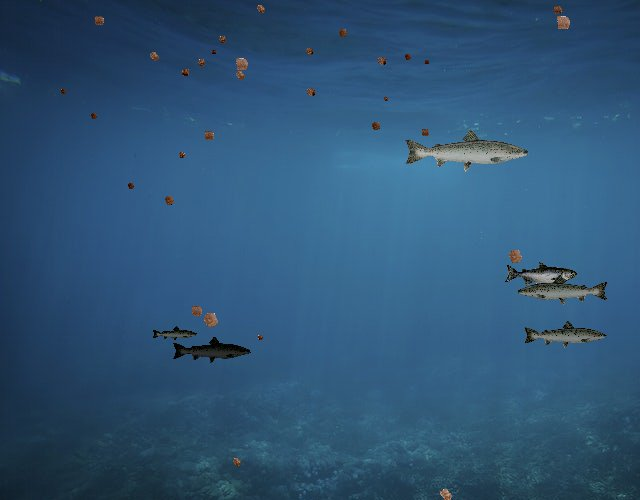Fish: (402, 127, 531, 173), (517, 273, 611, 307), (522, 319, 608, 350), (171, 335, 252, 365), (505, 261, 578, 287), (152, 326, 199, 343)
Pellet: (196, 304, 226, 334), (185, 300, 208, 323), (432, 482, 459, 500), (372, 52, 391, 71), (228, 453, 245, 471), (174, 148, 189, 163), (124, 179, 138, 193), (254, 332, 266, 344)
